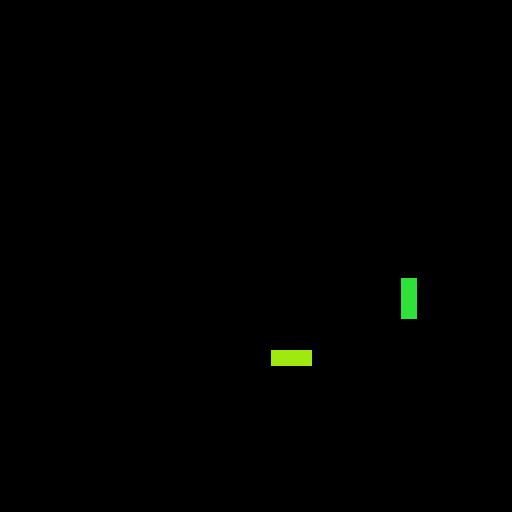side_rect: (268, 350, 311, 365)
up_rect: (399, 276, 419, 319)
